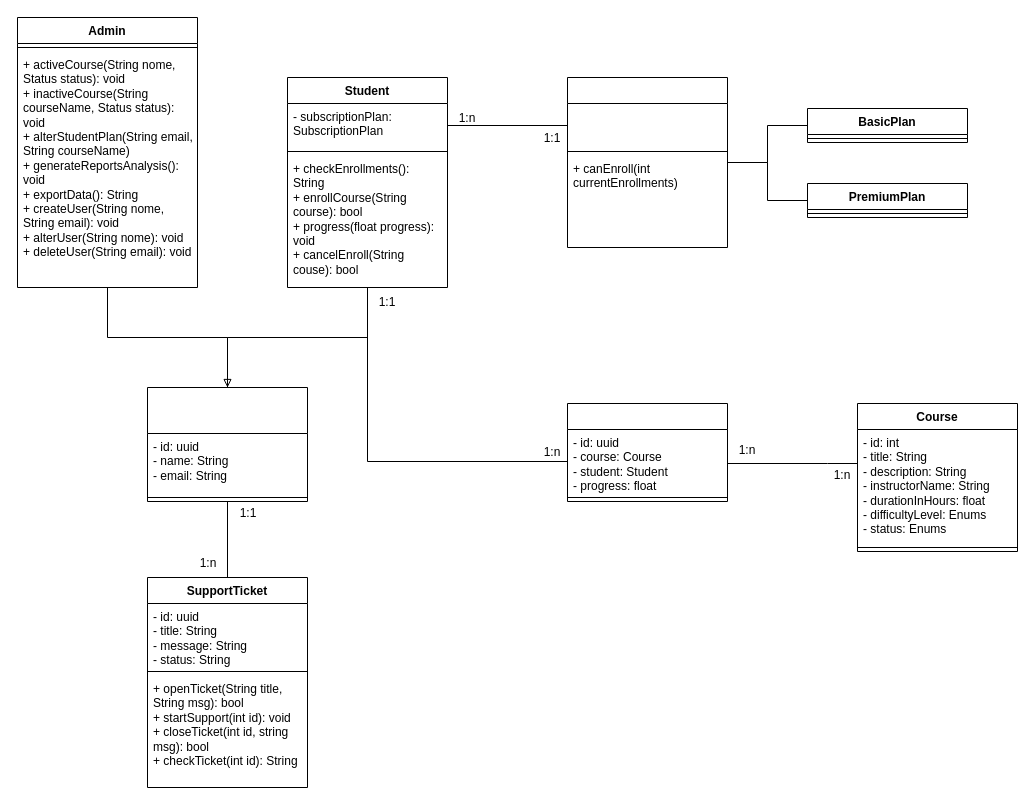
This 1035x808 diagram has some shape labels left out. The shapes that lost their labels are listed below. From the top down, each one's box as (x1, y1, x2, y2) in pixels, then its label:
(566, 76, 728, 248): SubscriptionPlan
(146, 386, 308, 502): User <<abstract>>
(566, 402, 728, 502): Enrollment
